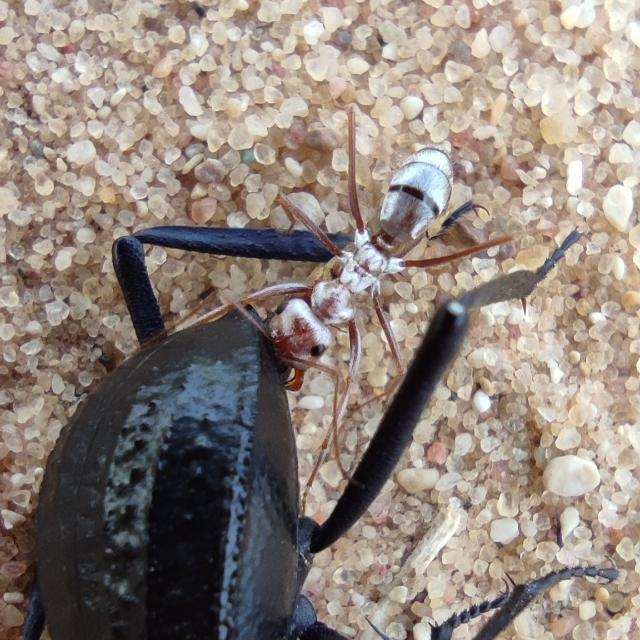Cataglyphis: (233, 128, 492, 398)
